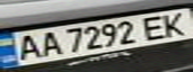2: (115, 17, 142, 46), (81, 22, 103, 52)
7: (60, 25, 84, 54)
9: (100, 20, 121, 48)
A: (9, 32, 45, 62), (33, 29, 63, 57)
E: (136, 12, 175, 42)
K: (157, 9, 193, 37)
